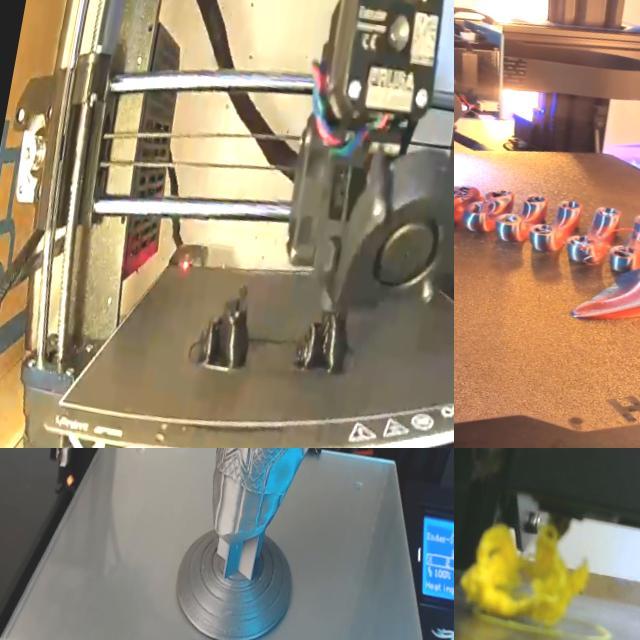spaghetti: (460, 524, 586, 625)
